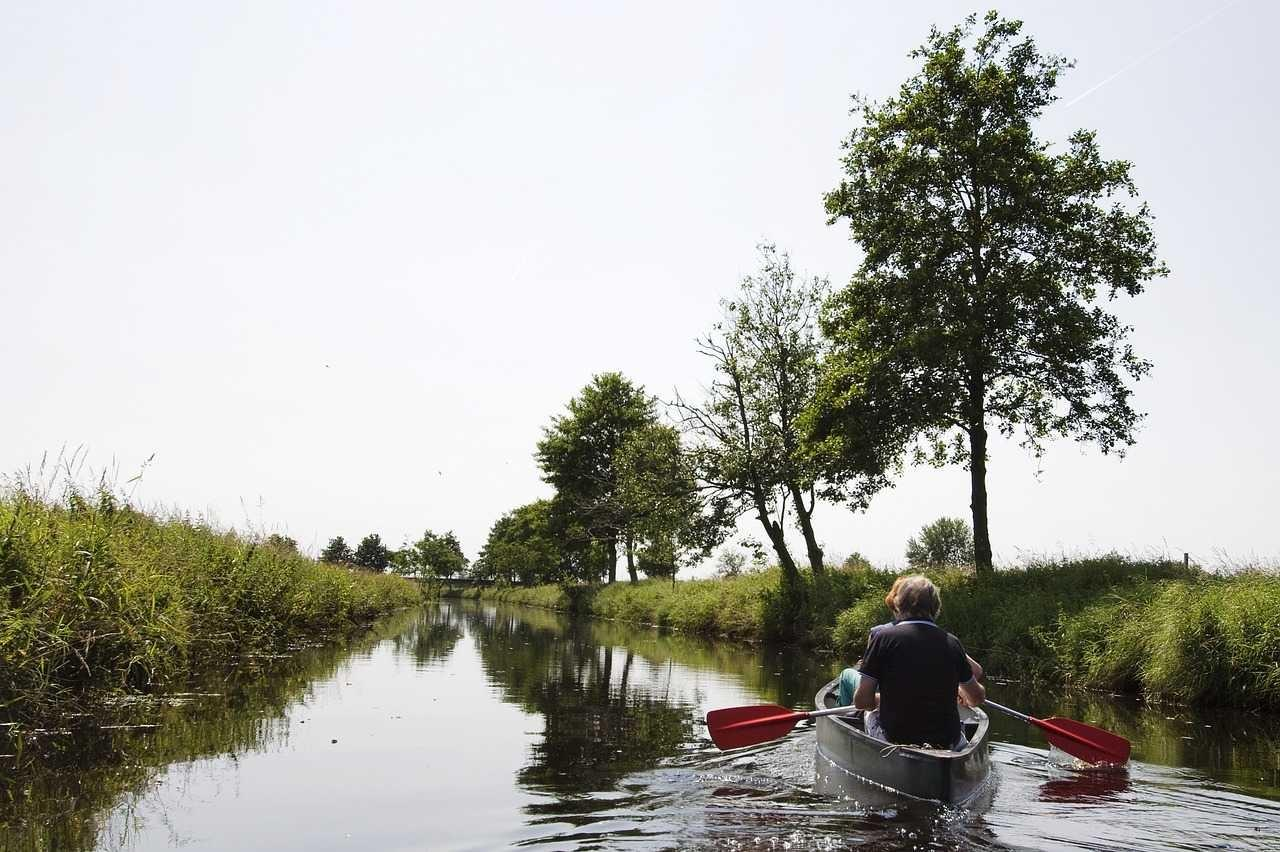kayak: (812, 673, 995, 816), (1031, 715, 1132, 769)
